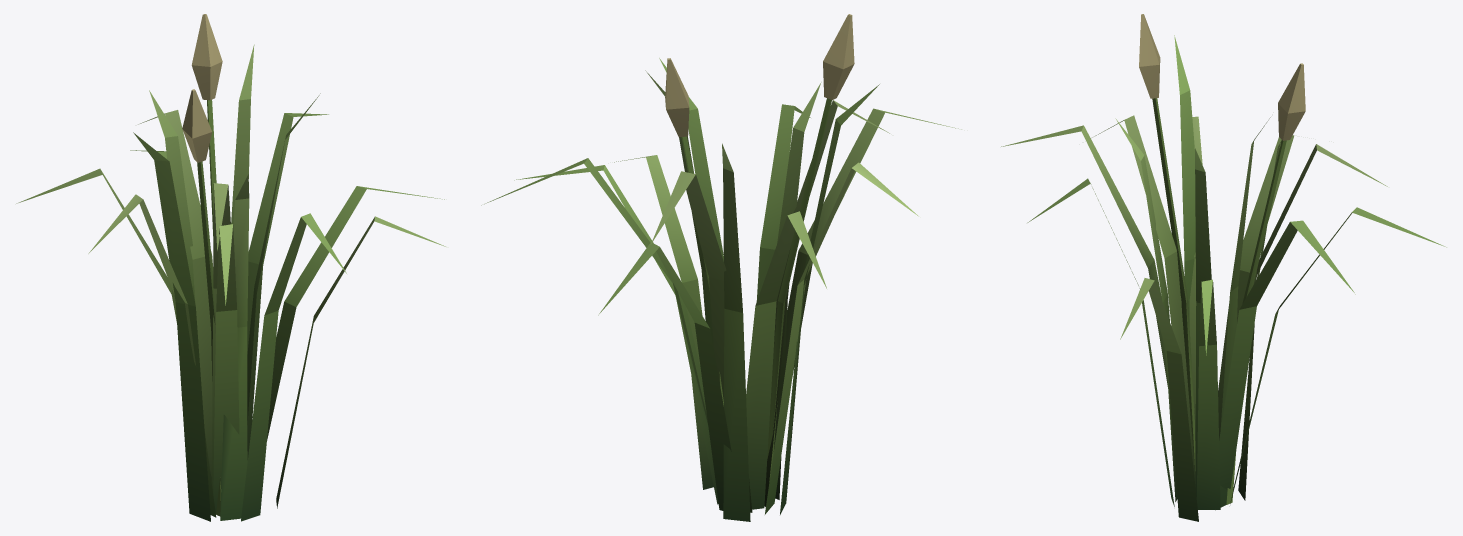
Rendered from deco-tallgrass.glb.
3 renders of one model, left to right at view 1: azimuth 30°, elevation 25°; view 2: azimuth 150°, elevation 25°; view 3: azimuth 270°, elevation 25°, orthographic. The views are drawn at different scales.
Parts seen in each view (by area): view 1: 0_tallgrass; view 2: 0_tallgrass; view 3: 0_tallgrass.
Boxes of the visible parts, x1,y1,x2,y2 form: 0_tallgrass: (16, 14, 445, 521); 0_tallgrass: (481, 14, 961, 521); 0_tallgrass: (1001, 14, 1446, 521).
Size of the model in its own units: 0.9272 by 1.08 by 0.9735.
